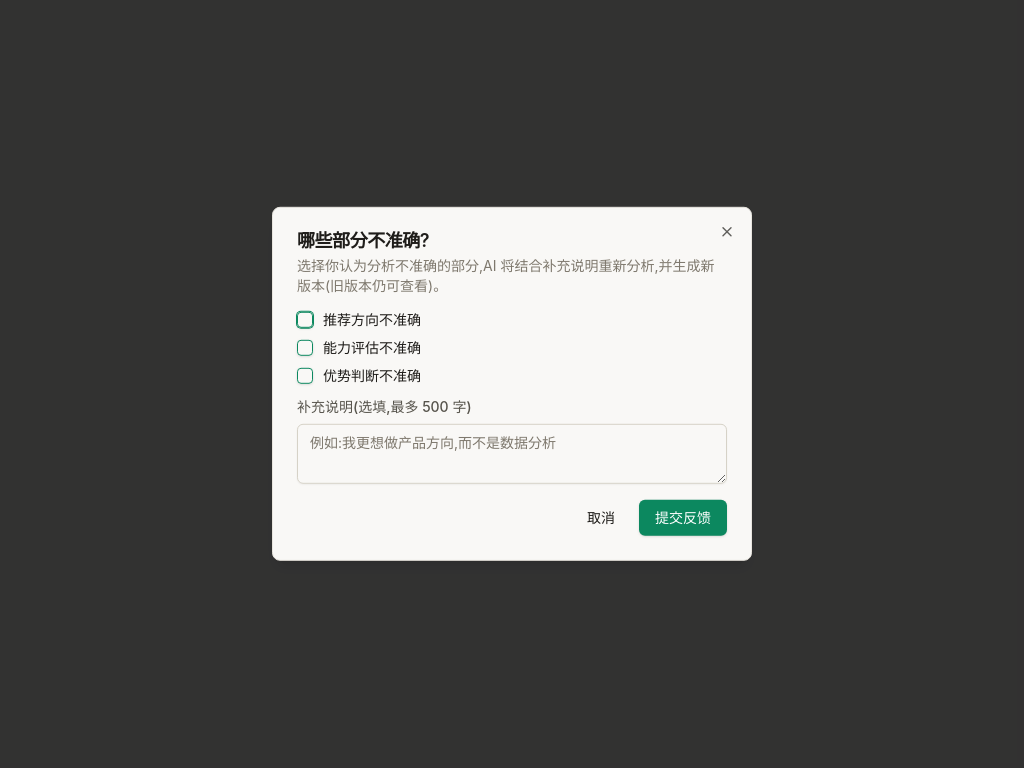
CorrectionDialog › 提交失败:显示错误且弹窗不关闭
Click the text "推荐方向不准确": click(372, 320) [323,313,421,327]
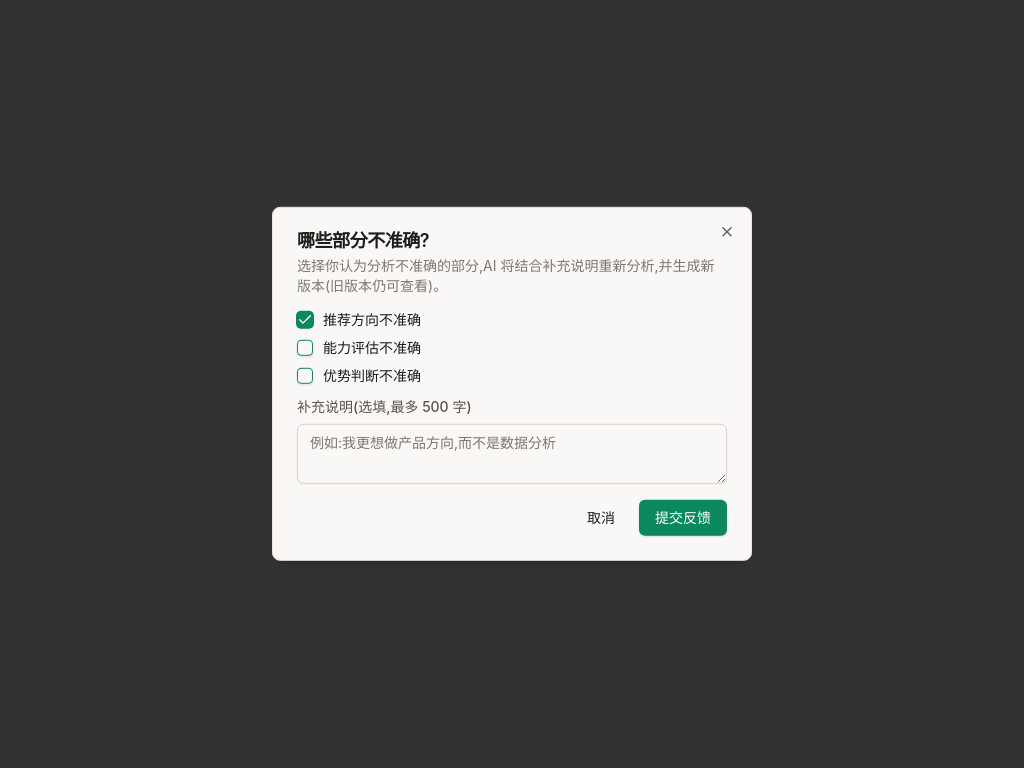
Click the button "提交反馈": click(683, 518) [639,500,727,536]
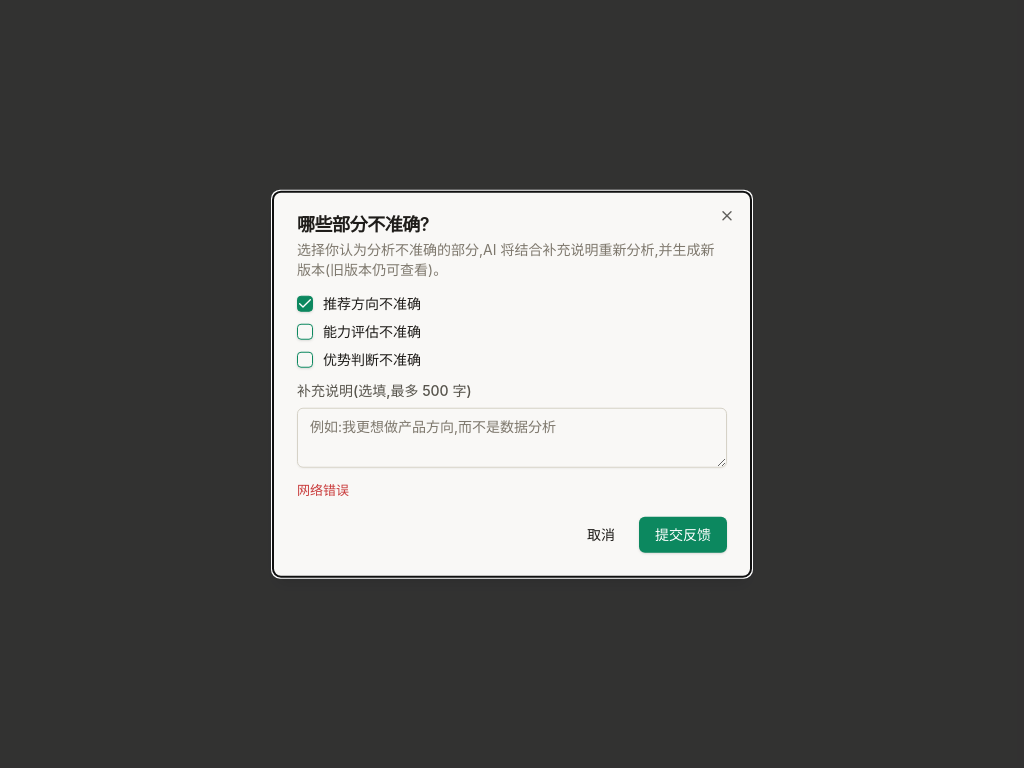
Expected: the message reads "网络错误", [297,482,349,498]
